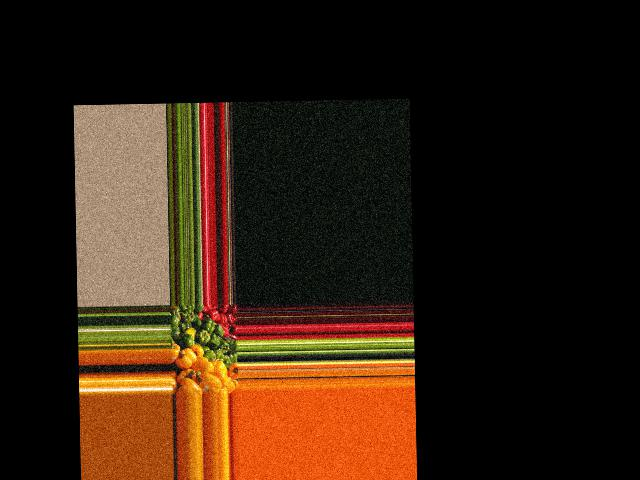bell_pepper: (168, 305, 180, 321)
